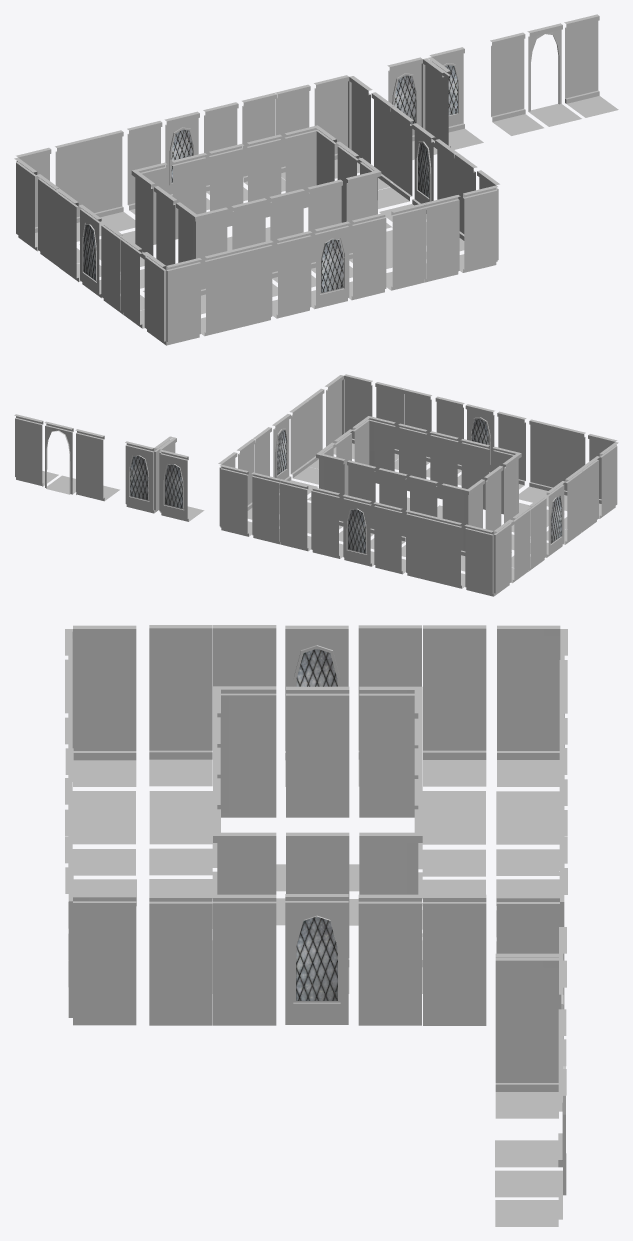
The model's file is New TileSet.fbx.
3 renders of one model, top to bottom at view 1: azimuth 30°, elevation 25°; view 2: azimuth 150°, elevation 25°; view 3: azimuth 270°, elevation 25°, orthographic. The views are drawn at different scales.
Parts seen in each view (by area): view 1: Wall Tile Coner 3, Wall Tile Coner 1, Between_Room_ Window _Tile_Left, Door_tile_2, Door_tile_1, Wall Tile 20, Wall Tile Coner 2, Inner Tile 023, Wall Tile 10, Wall Tile 12, Window Tile 3, Wall Tile 14 (+33 smaller); view 2: Wall Tile Coner 4, Wall Tile Coner 2, Between_Room_Window_Tile_Right, Between_Room_ Window _Tile_Left, Wall Tile 13, Wall Tile Coner 1, Inner Tile 024, Door_tile_1, Door_tile_2, Wall Tile 19, Wall Tile 2, Wall Tile1 (+33 smaller); view 3: Inner Tile 025, Inner Tile 4, Between_Room_Window_Tile_Right, Wall Tile Coner 3, Wall Tile Coner 4, Wall Tile 15, Wall Tile 18, Wall Tile Coner 2, Wall Tile 8, Tile 5, Wall Tile 7, Wall Tile 5 (+24 smaller).
Part boxes in pixels (box(x1,y1,x2,y2)): Wall Tile Coner 3: box(143, 252, 201, 345); Wall Tile Coner 1: box(314, 75, 372, 178); Between_Room_ Window _Tile_Left: box(387, 57, 445, 159); Door_tile_2: box(564, 14, 618, 117); Door_tile_1: box(490, 32, 543, 135); Wall Tile 20: box(88, 130, 135, 231); Wall Tile Coner 2: box(459, 170, 499, 272); Inner Tile 023: box(284, 125, 336, 208); Wall Tile 10: box(386, 203, 426, 290); Wall Tile 12: box(272, 231, 311, 318); Window Tile 3: box(311, 221, 349, 309); Wall Tile 14: box(201, 248, 239, 336); Wall Tile Coner 4: box(464, 519, 512, 596); Wall Tile Coner 2: box(325, 374, 372, 459); Between_Room_Window_Tile_Right: box(125, 436, 172, 513); Between_Room_ Window _Tile_Left: box(158, 437, 204, 521); Wall Tile 13: box(519, 419, 558, 502); Wall Tile Coner 1: box(218, 452, 252, 536); Inner Tile 024: box(352, 416, 395, 483); Door_tile_1: box(75, 429, 119, 501); Door_tile_2: box(14, 414, 58, 486); Wall Tile 19: box(433, 516, 465, 588); Wall Tile 2: box(311, 487, 343, 558); Wall Tile1: box(373, 502, 405, 574); Inner Tile 025: box(149, 686, 276, 844); Inner Tile 4: box(359, 686, 485, 844); Between_Room_Window_Tile_Right: box(495, 957, 566, 1118); Wall Tile Coner 3: box(65, 625, 136, 786); Wall Tile Coner 4: box(497, 625, 567, 786); Wall Tile 15: box(149, 625, 212, 786); Wall Tile 18: box(423, 625, 486, 786); Wall Tile Coner 2: box(65, 867, 136, 1025); Wall Tile 8: box(149, 894, 212, 1025); Tile 5: box(286, 686, 349, 817); Wall Tile 7: box(213, 894, 276, 1025); Wall Tile 5: box(423, 894, 486, 1025).
Bounding box in the file's own units: 1384 × 626 × 180.
